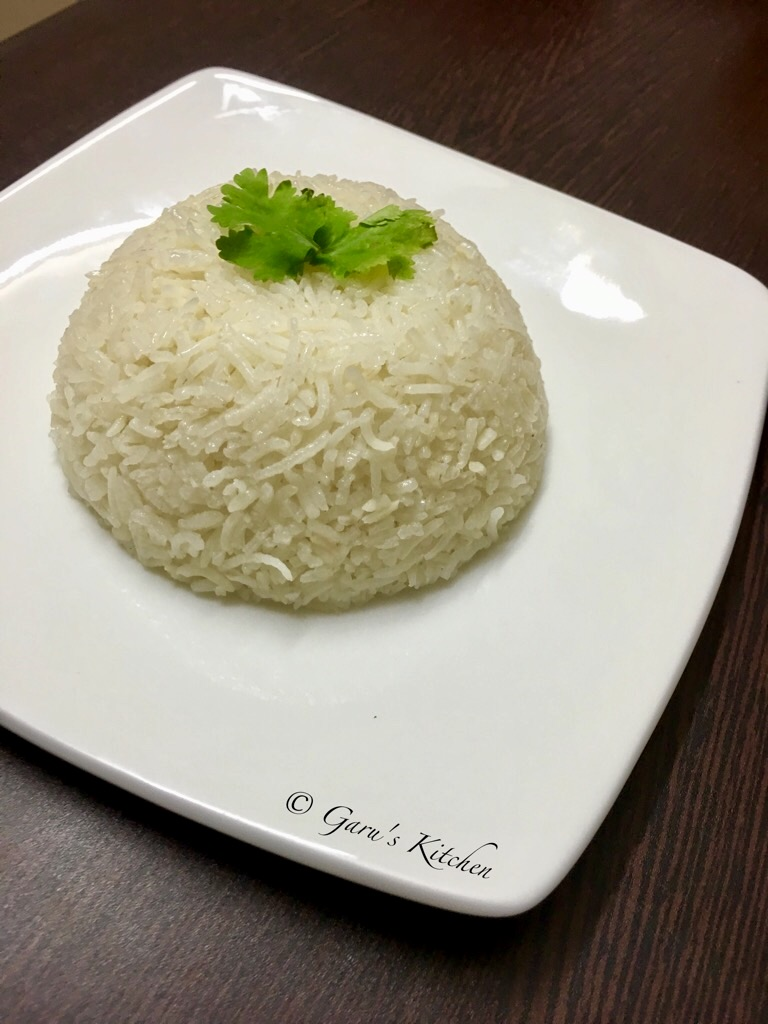plain rice: (114, 339, 510, 546)
